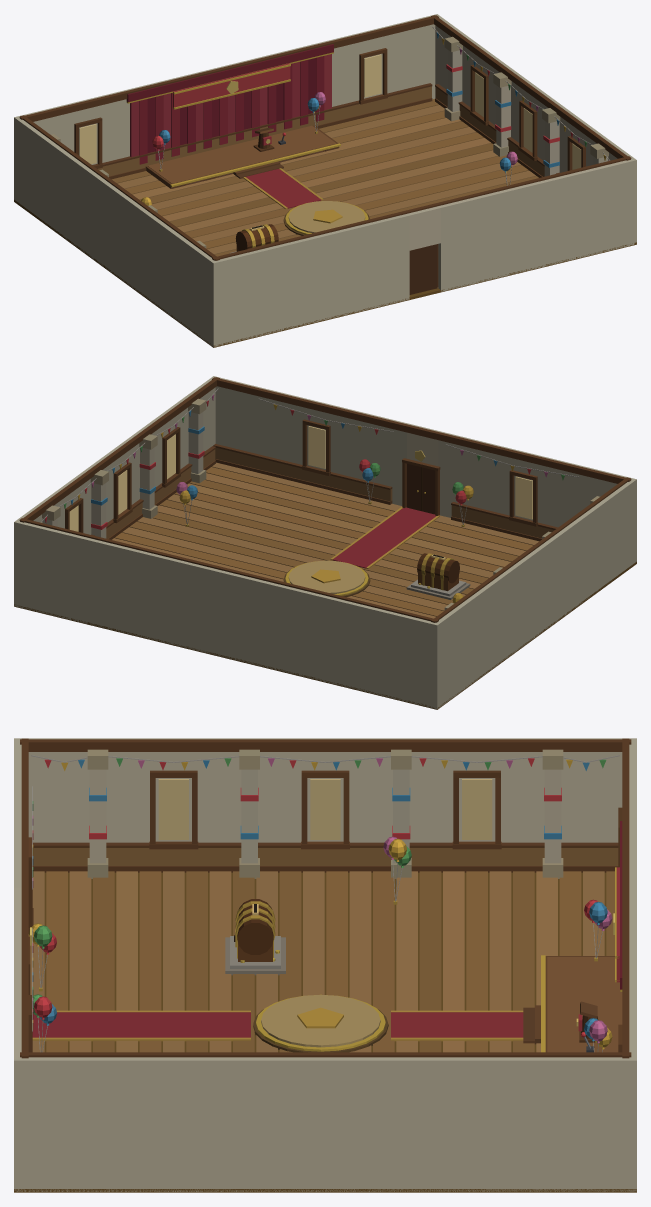
File: Party_Hall_Interior.glb
The picture shows the model from 3 angles, top to bottom: view 1: azimuth 30°, elevation 25°; view 2: azimuth 150°, elevation 25°; view 3: azimuth 270°, elevation 25°; orthographic projection. The views are drawn at different scales.
Visible parts, largest first — view 1: Wall_Front, Hall_Core, Wall_Back, Wall_Left, Wall_Right; view 2: Wall_Back, Hall_Core, Wall_Front, Wall_Left, Wall_Right; view 3: Hall_Core, Wall_Right, Wall_Left, Wall_Back, Wall_Front.
Boxes of the visible parts, x1,y1,x2,y2 form: Wall_Front: (212, 156, 634, 345); Hall_Core: (14, 92, 636, 347); Wall_Back: (14, 14, 439, 200); Wall_Left: (14, 115, 219, 347); Wall_Right: (431, 14, 636, 242); Wall_Back: (14, 518, 439, 708); Hall_Core: (14, 459, 636, 709); Wall_Front: (212, 377, 631, 541); Wall_Left: (431, 477, 636, 708); Wall_Right: (14, 376, 219, 606); Hall_Core: (14, 836, 636, 1192); Wall_Right: (14, 1052, 636, 1191); Wall_Left: (14, 738, 636, 878); Wall_Back: (613, 738, 636, 1191); Wall_Front: (14, 738, 33, 1058).
Bounding box in the file's own units: 32.7 × 6.35 × 26.7.
